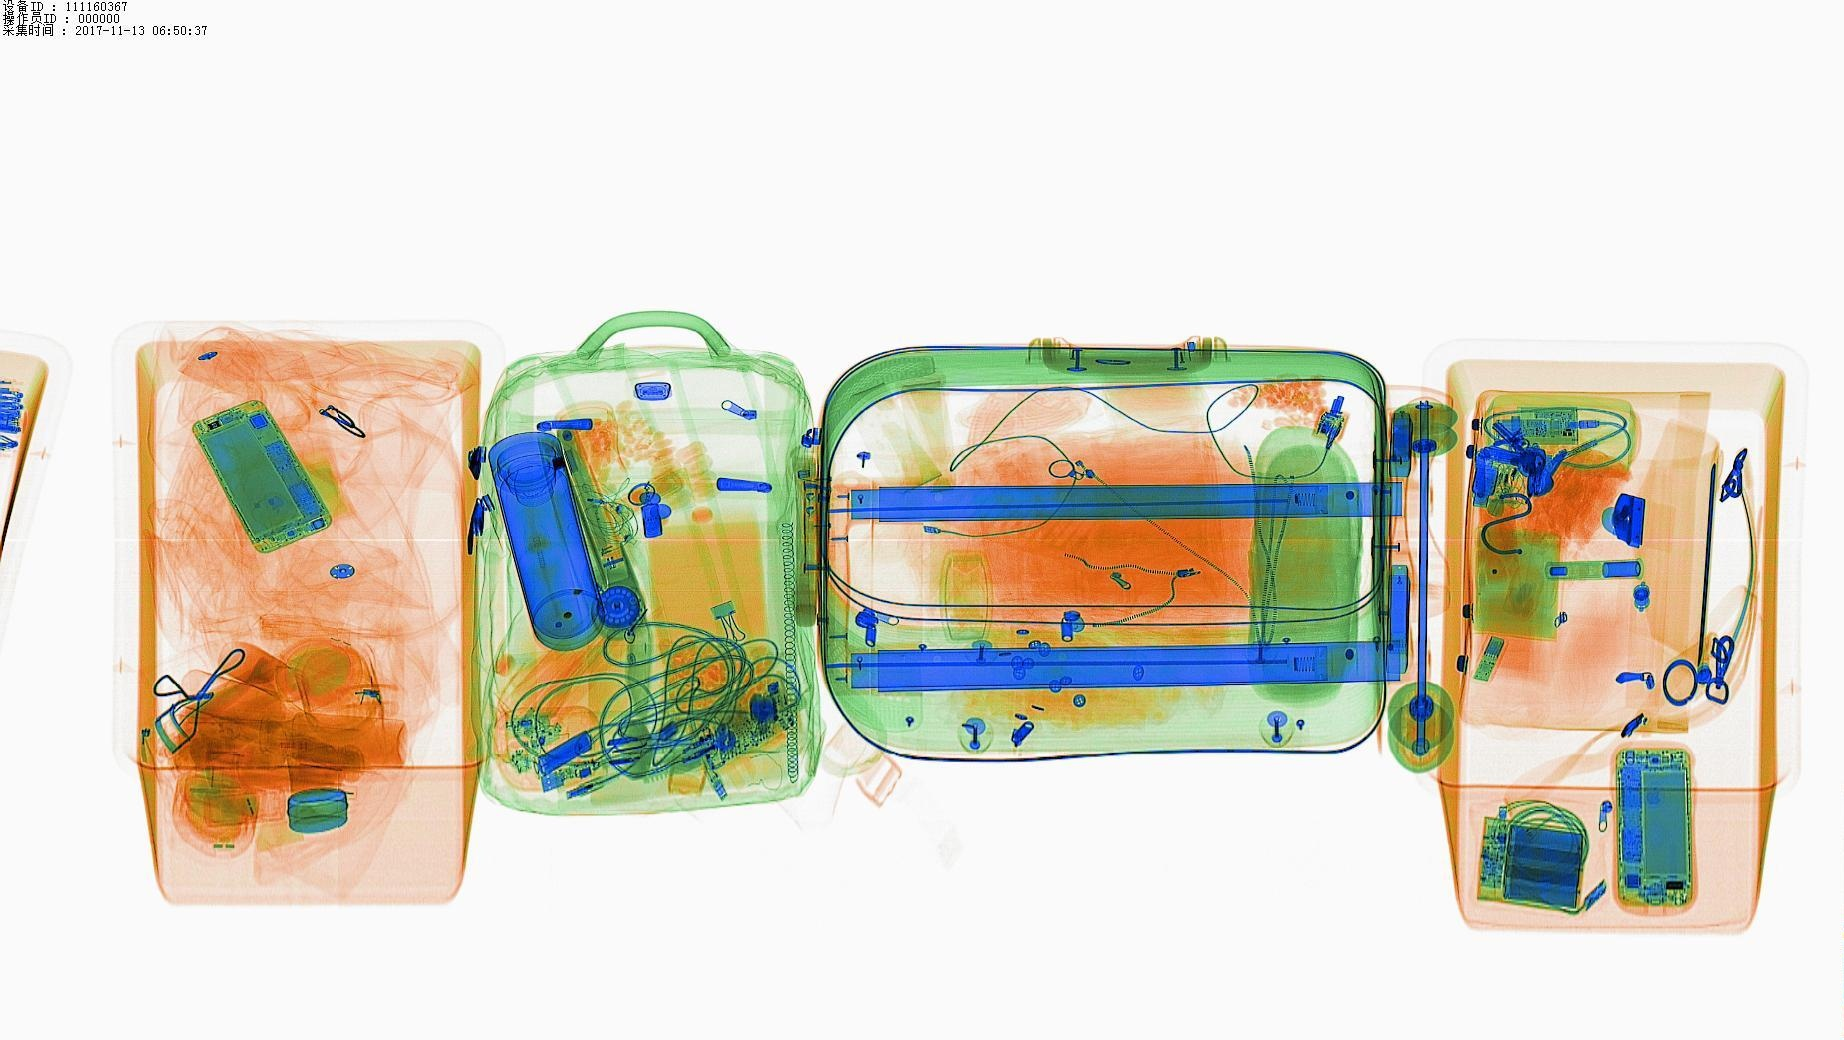core: (1481, 817, 1587, 910)
